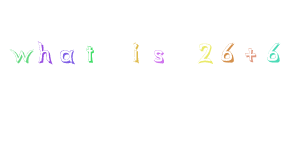+: (241, 44, 260, 66)
2: (191, 36, 217, 67)
6: (260, 35, 288, 66), (218, 37, 240, 68)
a: (56, 44, 77, 68)
h: (34, 36, 55, 68)
i: (123, 37, 149, 68)
s: (148, 46, 169, 67)
t: (79, 43, 103, 66)
w: (5, 40, 38, 68)
